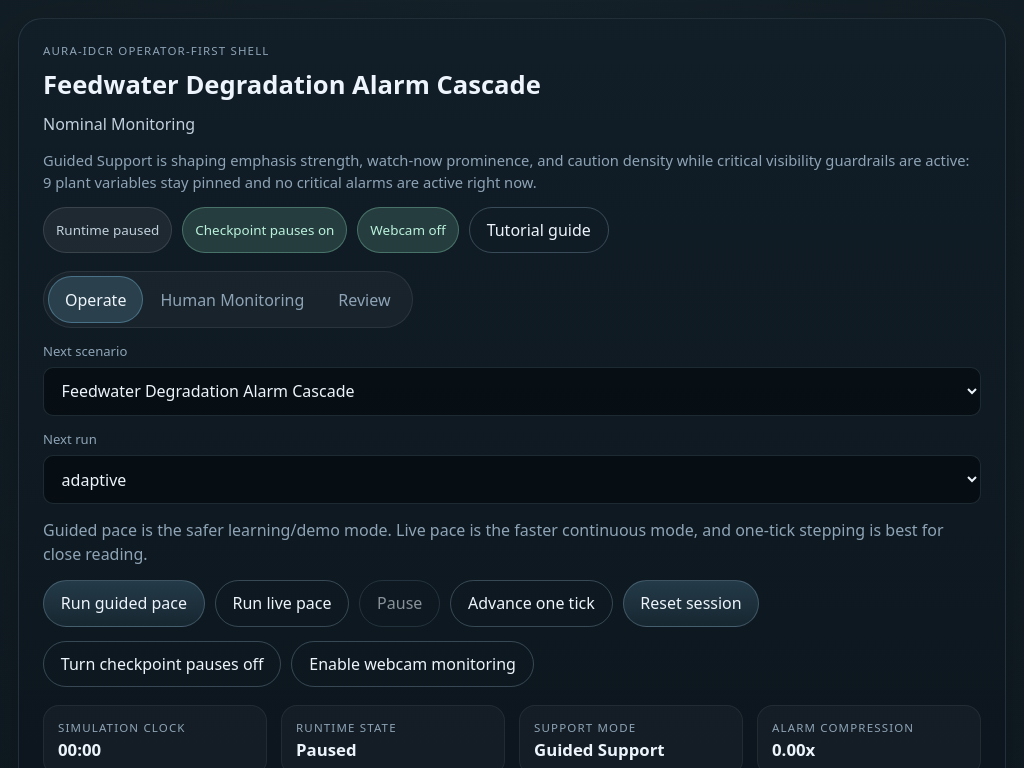
it: AuraSessionStore › pauses guided pace at checkpoints and turns the run controls into clearer resume actions
Click the button "Run guided pace".
click(124, 603)  # box [43,580,205,627]
Wait 7000 ms
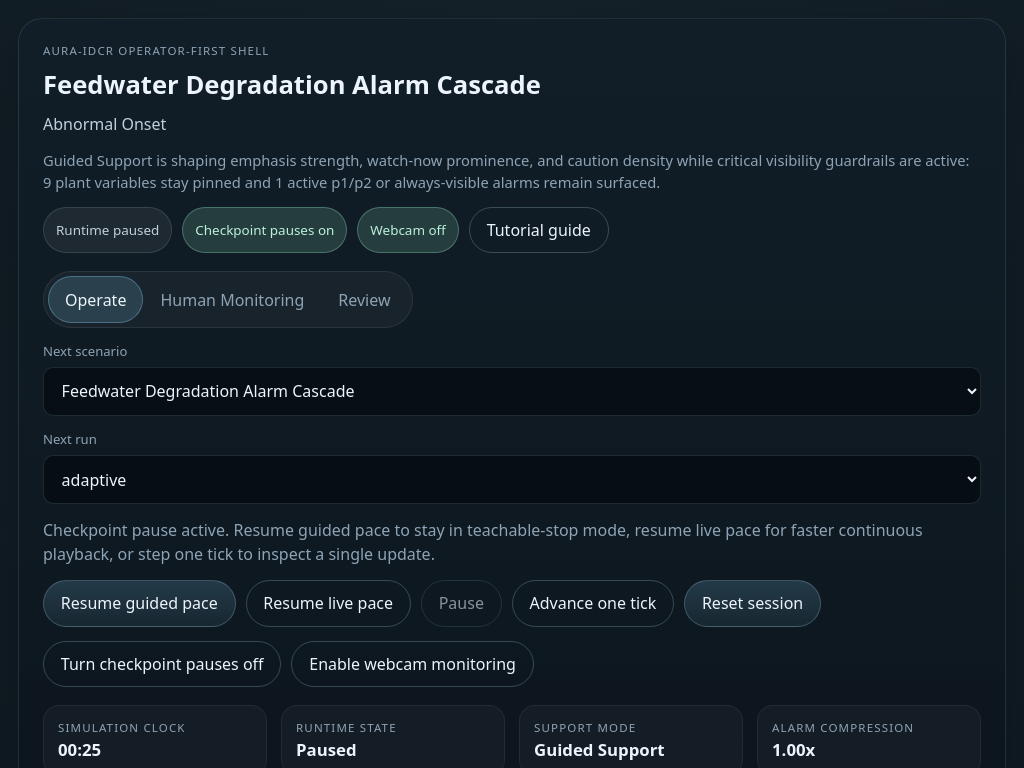
Check: the button "Resume guided pace" is shown, box [43,580,236,627]
Check: the button "Resume live pace" is shown, box [246,580,411,627]
